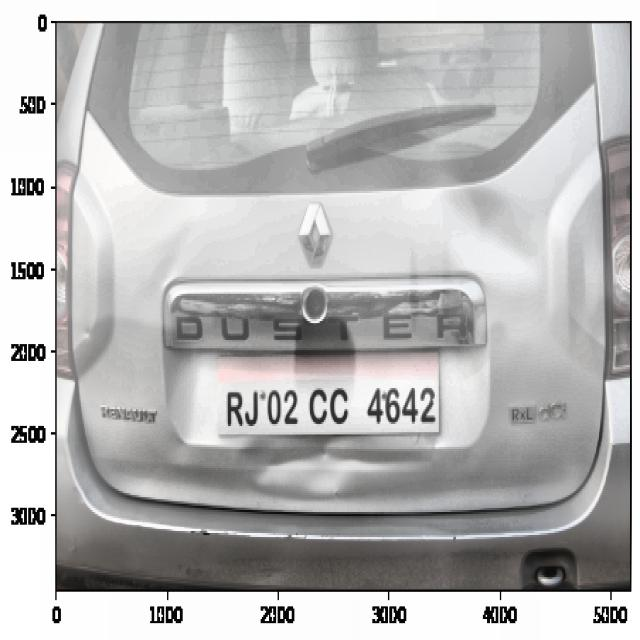license_plate: (222, 375, 442, 435)
